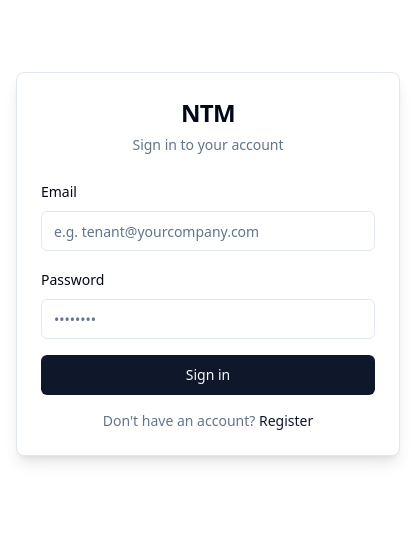
Test case: LoginPage — register mode role preview › shows Tenant Admin + tenant name when email is tenant@acme.com
Click the button "Register" at (286,421), box [259,411,313,431]
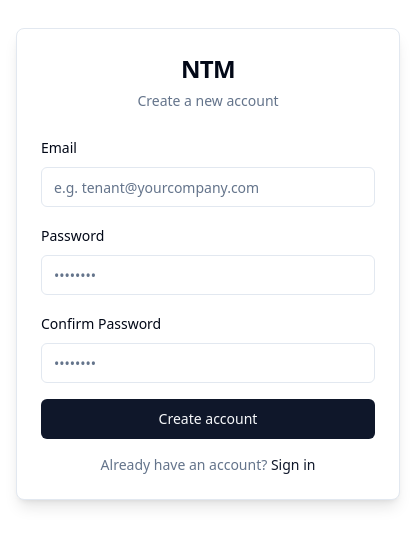
Type "tenant@acme.com" into the field labelled "Email" at (208,187), box [41,167,375,207]
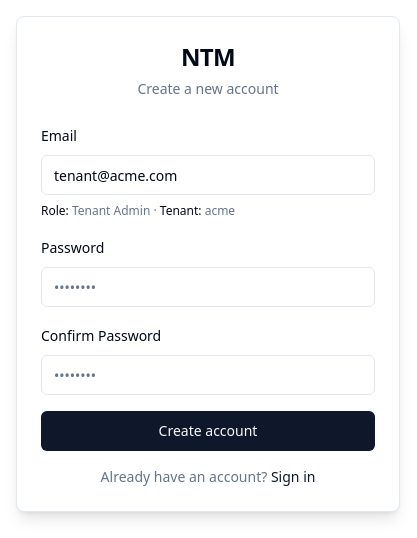
Now the text "Role: Tenant Admin · Tenant: acme" is shown, box [41,202,235,219]
